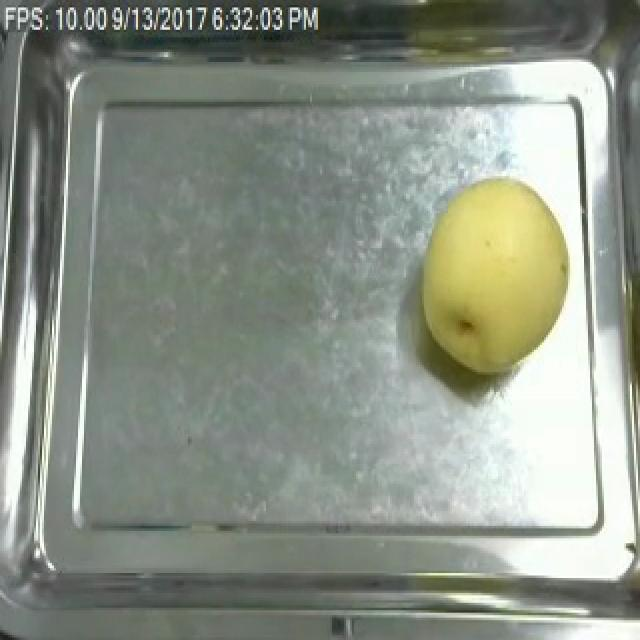Fruit: (408, 171, 584, 382)
